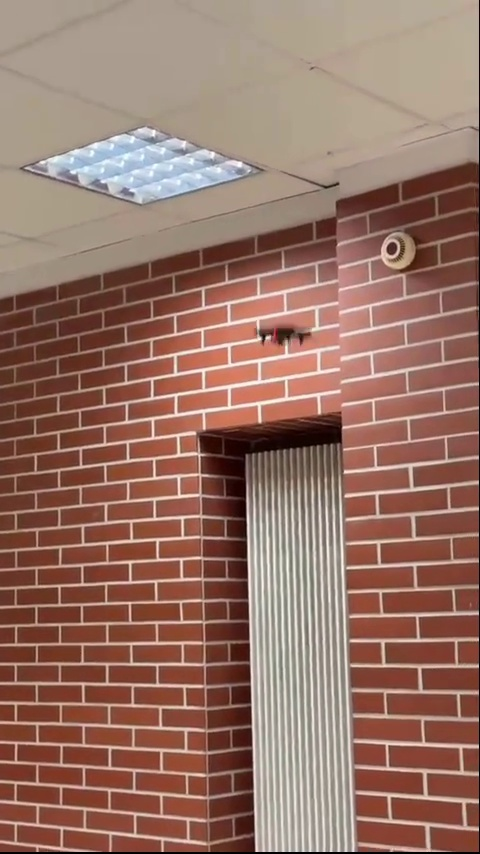drone: (257, 323, 315, 346)
